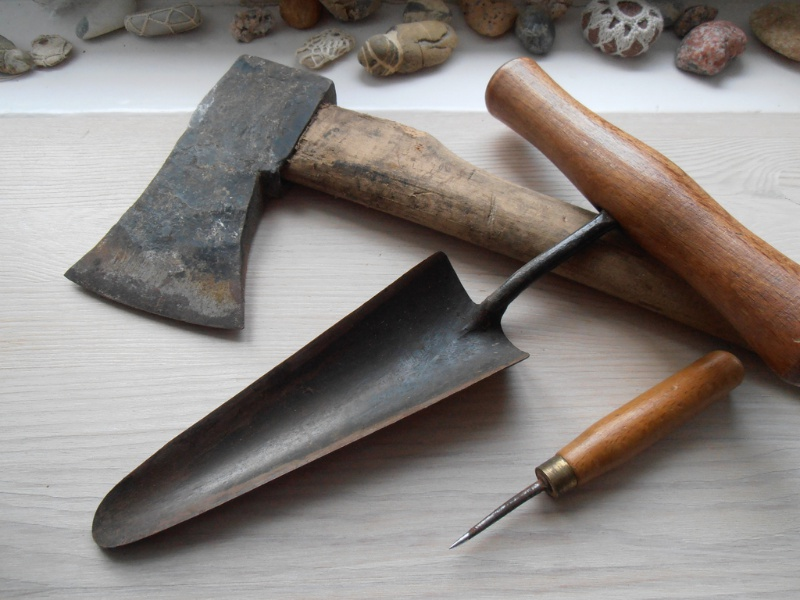axe: (57, 47, 345, 342)
